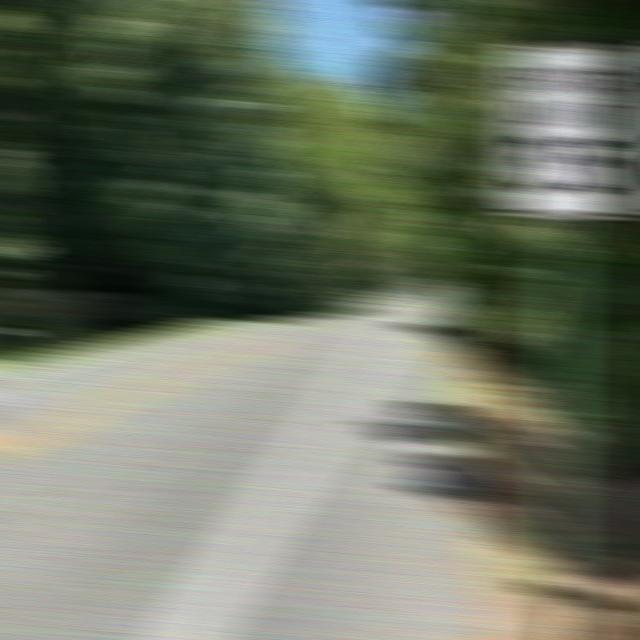speedLimit35: (501, 38, 626, 216)
